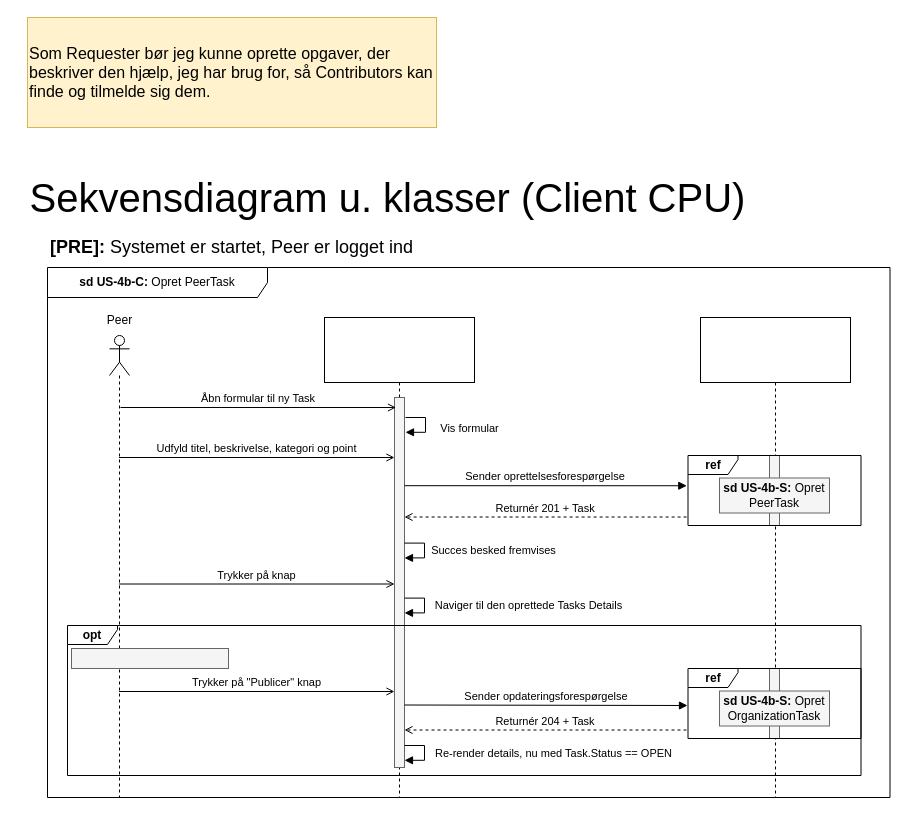
Some shapes in this 907 by 815 pixel diagram are drawn without their labels. Here are the shapes that lost their labels. From the top down, the box of each, then its label:
(324, 316, 474, 798): : Client
(700, 316, 850, 798): : Server
(70, 648, 228, 668): [ Opdater Status til OPEN ]
